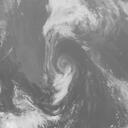cyclone: (46, 52, 82, 93)
